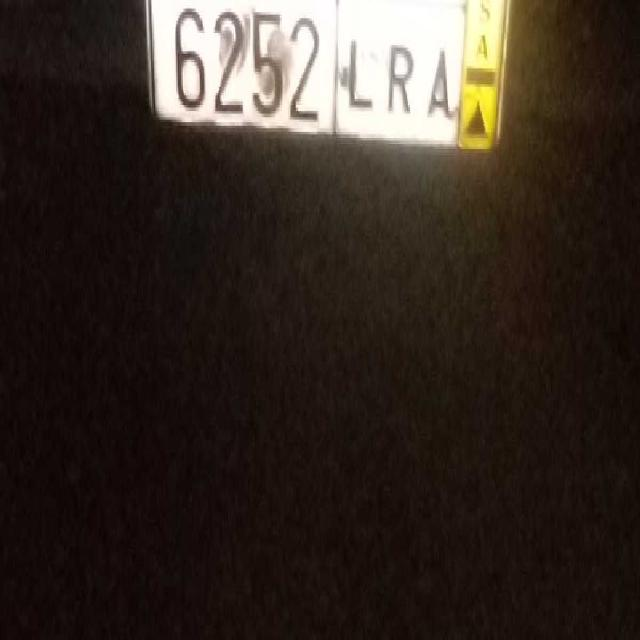license_plate: (150, 0, 462, 163)
